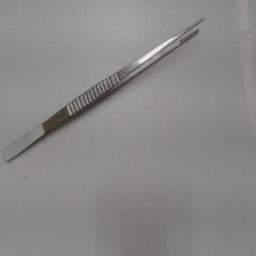DeBakey Dissector: (1, 6, 211, 174)
